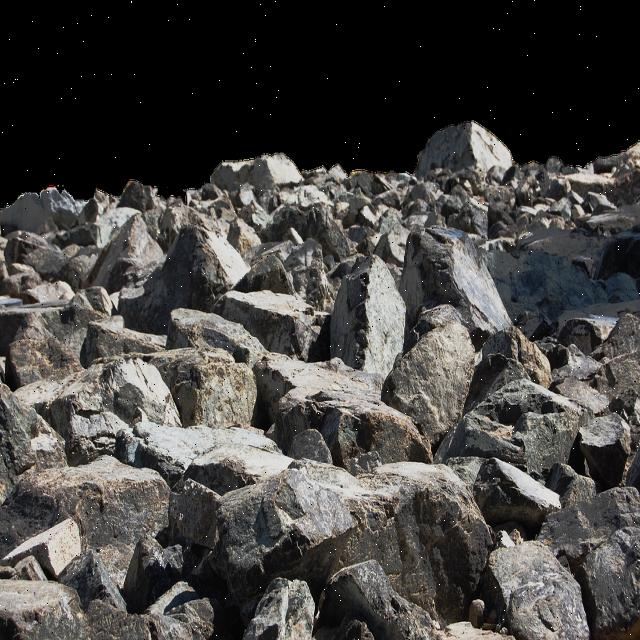Igneous: (1, 119, 638, 638)
